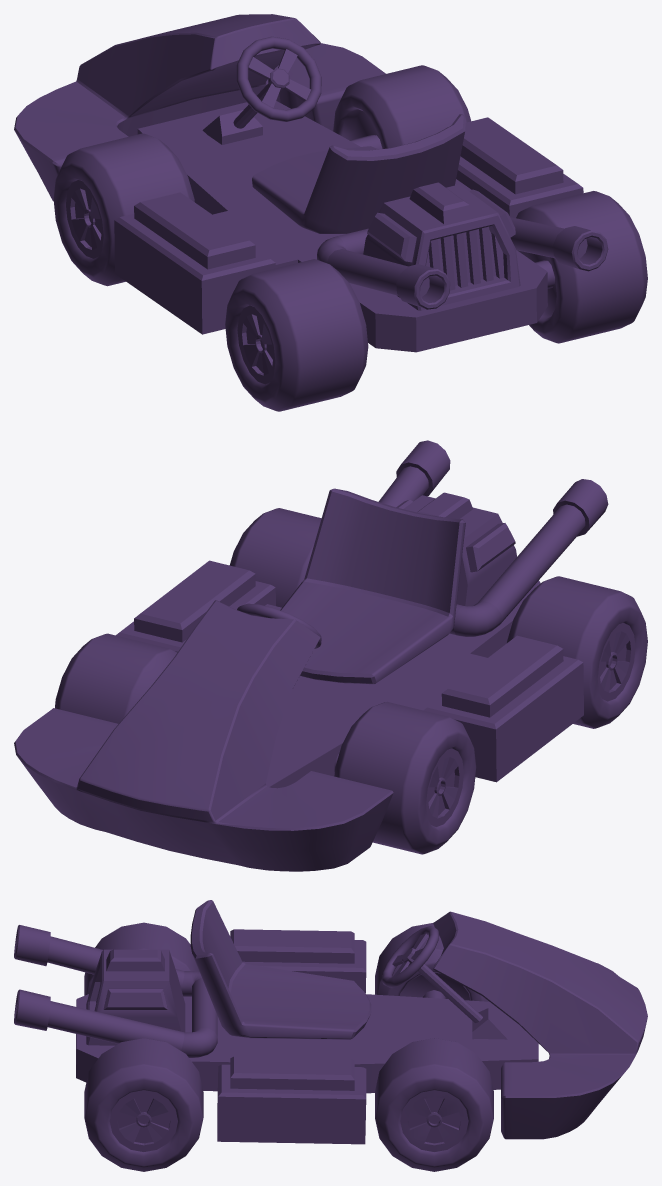
Rendered from goKartFINAL.fbx.
The picture shows the model from 3 angles, top to bottom: view 1: azimuth 30°, elevation 25°; view 2: azimuth 150°, elevation 25°; view 3: azimuth 270°, elevation 25°; orthographic projection. The views are drawn at different scales.
Visible parts, largest first — view 1: main_board, front_chasis, rear_L_tire, seat, rear_R_tire, front_L_tire, engine_block1, exhaust_pipes, front_R_tire, steering_column, L_inner_wheel, L_inner_wheel2 (+5 smaller); view 2: front_chasis, main_board, seat, front_L_tire, rear_L_tire, exhaust_pipes, front_R_tire, rear_R_tire, engine_block1, L_inner_wheel, L_inner_wheel2, steering_column; view 3: main_board, front_chasis, seat, rear_R_tire, front_R_tire, exhaust_pipes, engine_block1, R_inner_wheel2, R_inner_wheel, steering_column, rear_L_tire, front_L_tire (+1 smaller).
Part boxes in pixels (left/top/right/bottom): main_board: left=114, top=101, right=583, bottom=352; front_chasis: left=14, top=14, right=385, bottom=200; rear_L_tire: left=225, top=259, right=368, bottom=411; seat: left=252, top=114, right=465, bottom=233; rear_R_tire: left=516, top=191, right=647, bottom=343; front_L_tire: left=53, top=133, right=194, bottom=286; engine_block1: left=363, top=182, right=520, bottom=310; exhaust_pipes: left=317, top=217, right=608, bottom=309; front_R_tire: left=333, top=65, right=470, bottom=148; steering_column: left=233, top=36, right=321, bottom=128; L_inner_wheel: left=66, top=180, right=103, bottom=258; L_inner_wheel2: left=237, top=305, right=275, bottom=384; front_chasis: left=14, top=600, right=393, bottom=871; main_board: left=116, top=560, right=583, bottom=788; seat: left=280, top=488, right=465, bottom=684; front_L_tire: left=334, top=701, right=476, bottom=854; rear_L_tire: left=507, top=576, right=647, bottom=728; exhaust_pipes: left=378, top=440, right=608, bottom=636; front_R_tire: left=55, top=633, right=177, bottom=723; rear_R_tire: left=229, top=508, right=321, bottom=607; engine_block1: left=396, top=492, right=516, bottom=606; L_inner_wheel: left=426, top=748, right=463, bottom=826; L_inner_wheel2: left=597, top=622, right=635, bottom=701; steering_column: left=237, top=603, right=321, bottom=648; main_board: left=76, top=929, right=538, bottom=1144; front_chasis: left=433, top=911, right=647, bottom=1139; seat: left=190, top=900, right=371, bottom=1039; rear_R_tire: left=84, top=1038, right=203, bottom=1171; front_R_tire: left=375, top=1038, right=493, bottom=1171; exhaust_pipes: left=14, top=925, right=217, bottom=1057; engine_block1: left=86, top=949, right=185, bottom=1045; R_inner_wheel2: left=109, top=1090, right=177, bottom=1151; R_inner_wheel: left=400, top=1090, right=468, bottom=1151; steering_column: left=382, top=926, right=482, bottom=1022; rear_L_tire: left=84, top=922, right=199, bottom=995; front_L_tire: left=375, top=923, right=489, bottom=1001.
Size of the model in its own units: 8.85 by 4.57 by 15.03.
